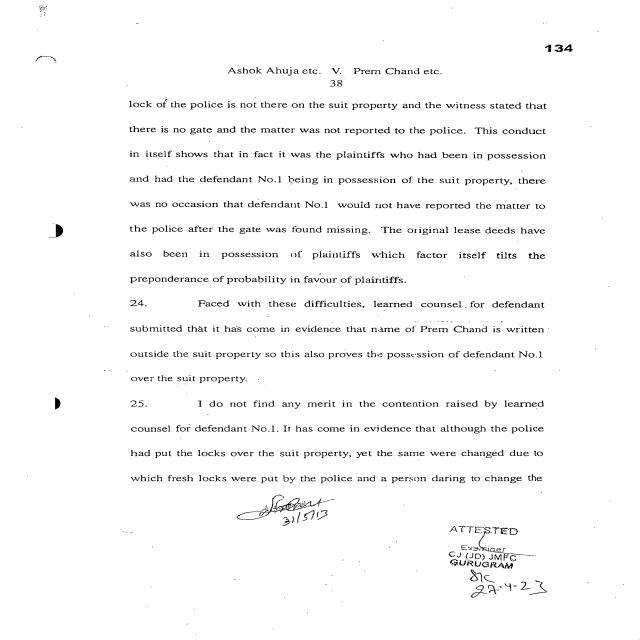page-number: (459, 0, 640, 96)
